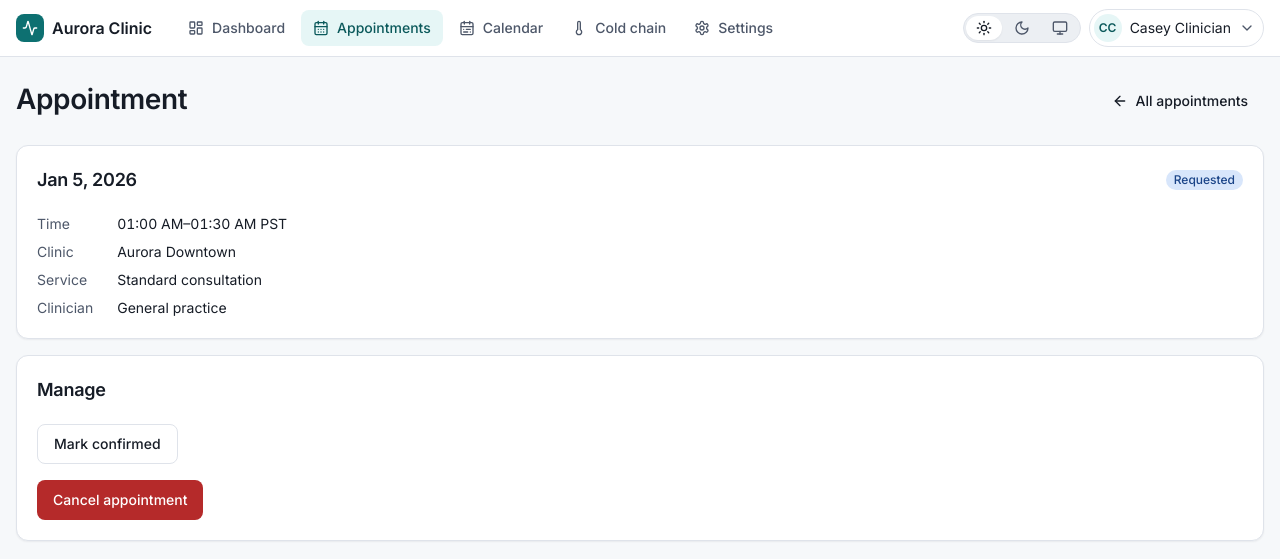
Test: appointment detail transitions › confirms an appointment via the transition endpoint
This screenshot has width=1280, height=559.
Click the button "Mark confirmed" at (107, 444), box left=37, top=424, right=178, bottom=464
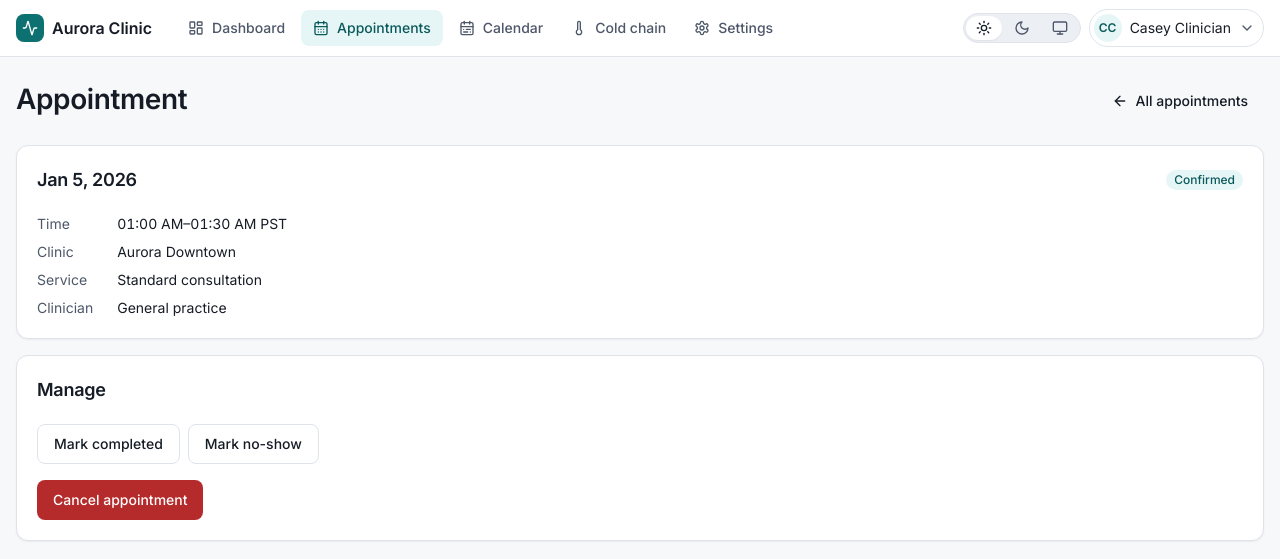
Expected: the text "Confirmed" is shown, left=1166, top=170, right=1243, bottom=190
